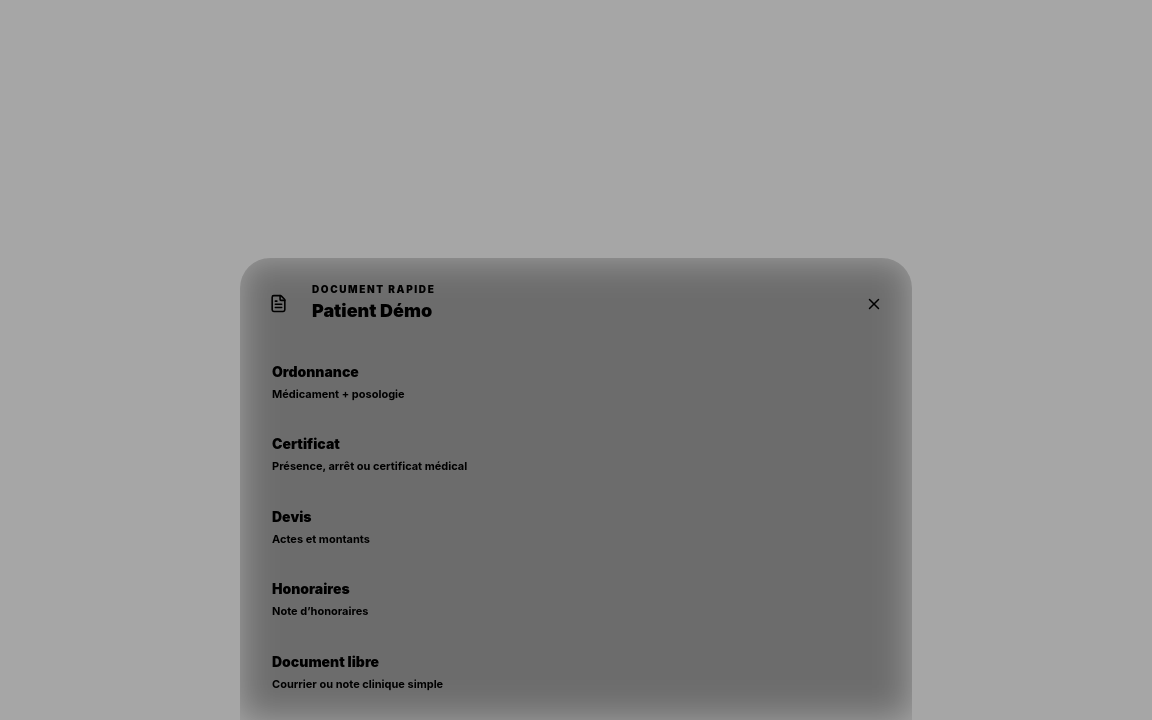
Test: MobileQuickDocumentSheet › keeps the patient medical alert visible inside the prescription flow
The image size is (1152, 720).
Click the button "Ordonnance Médicament + posologie" at (315, 371), box [256,350,896,414]
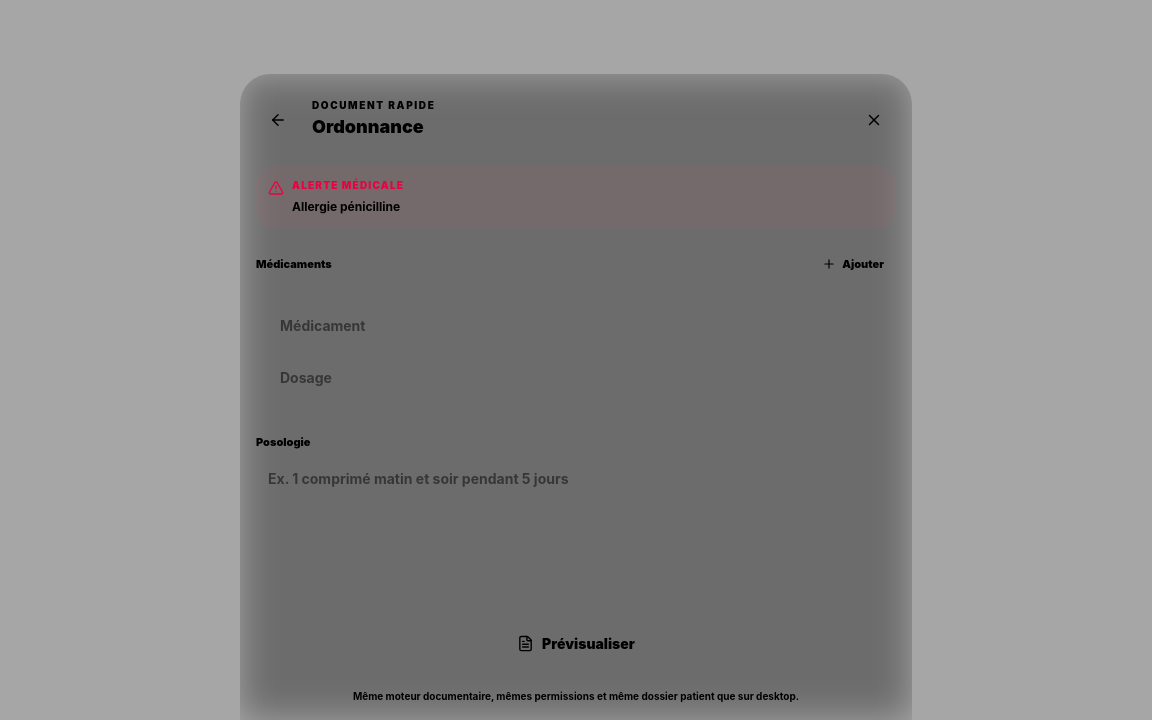
Expected: the text "Alerte médicale" is shown, [292,178,404,192]
Expected: the text "Allergie pénicilline" is shown, [292,196,404,216]
